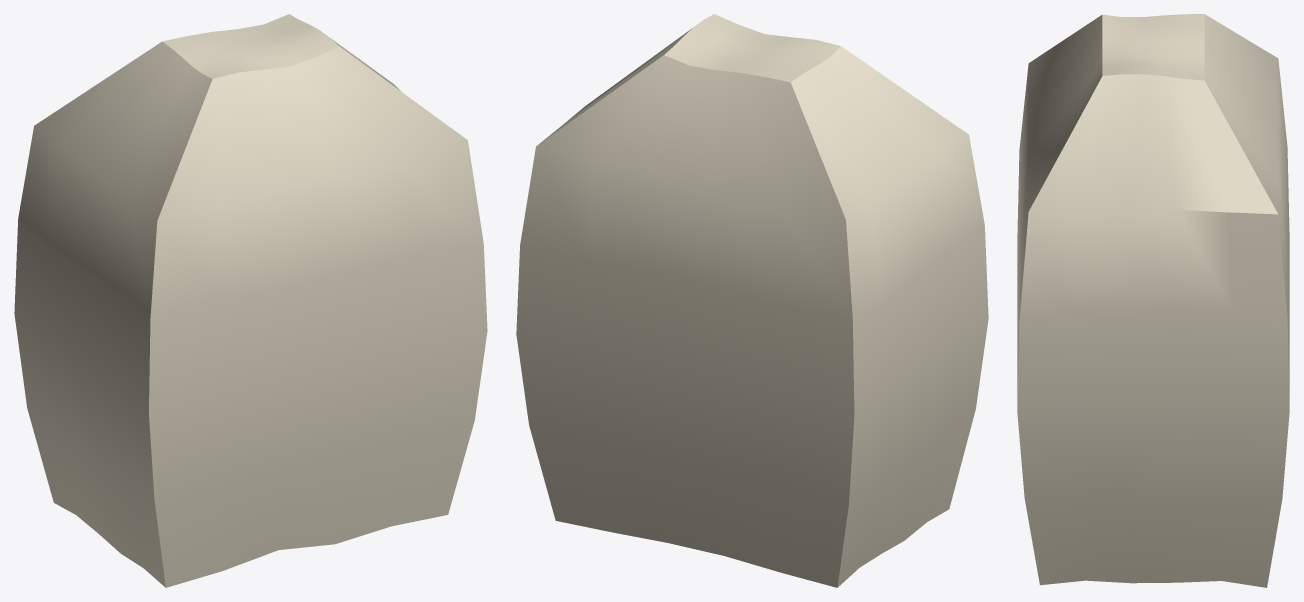
File: saco_farinha.glb
3 renders of one model, left to right at view 1: azimuth 30°, elevation 25°; view 2: azimuth 150°, elevation 25°; view 3: azimuth 270°, elevation 25°, orthographic.
Visible parts, largest first — view 1: saco_farinha; view 2: saco_farinha; view 3: saco_farinha.
Boxes of the visible parts, bbox=[...] form: saco_farinha: bbox=[14, 14, 487, 587]; saco_farinha: bbox=[516, 14, 988, 587]; saco_farinha: bbox=[1017, 14, 1289, 587].
Bounding box in the file's own units: 0.3839 × 0.5103 × 0.2639.
